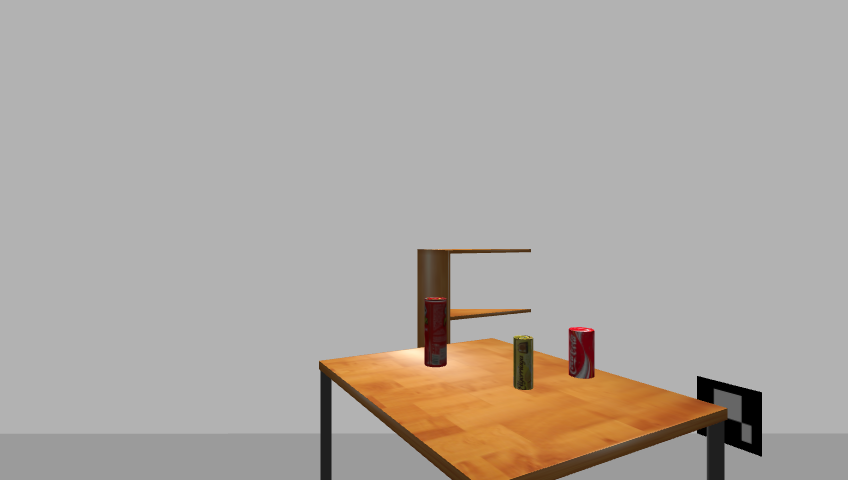aruco marker: (690, 375, 768, 458)
biscuits pack: (512, 335, 535, 392)
bookshelf: (412, 242, 538, 402)
coke can: (566, 327, 597, 380)
dinner table: (313, 338, 734, 479)
pringles can: (422, 297, 449, 369)
